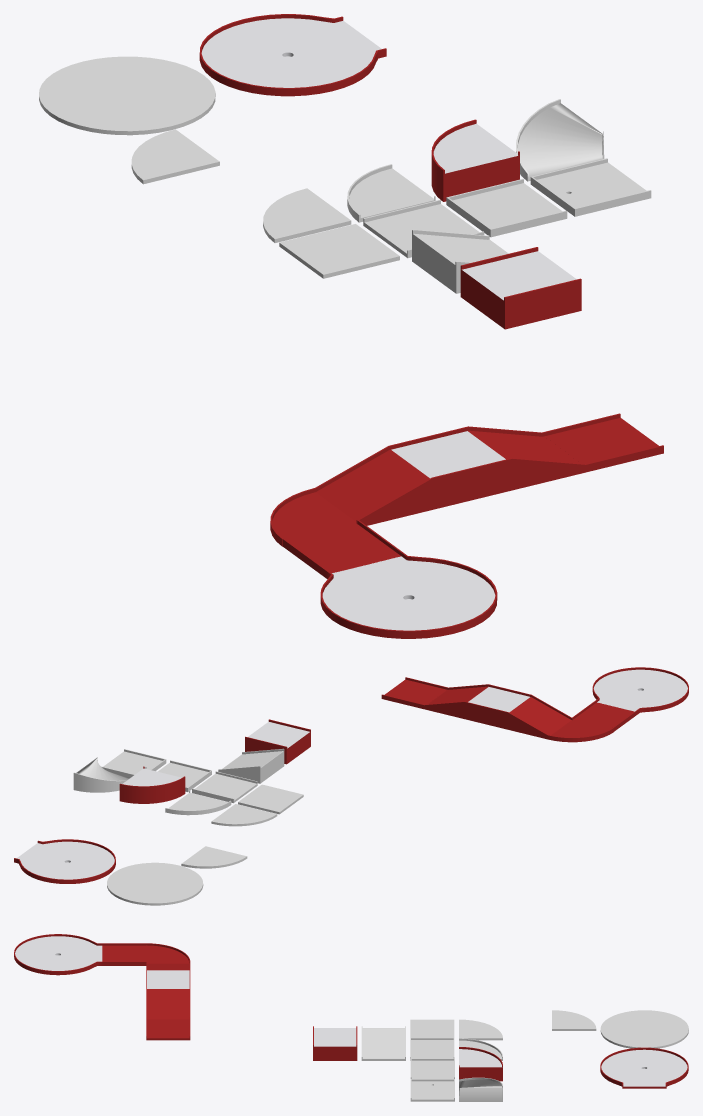
The model's file is MidgetGolf_ConstructionKit.fbx.
3 views of the same model, one above another, from view 1: azimuth 30°, elevation 25°; view 2: azimuth 150°, elevation 25°; view 3: azimuth 270°, elevation 25° (orthographic). The views are drawn at different scales.
Visible parts, largest first — view 1: Cylinder.9, Cylinder.6, Cylinder.1, Cube.5, Cylinder.4, Cylinder.5, Cube, Cube.3, Cube.1, Cube.4, Cylinder.2, Cylinder (+2 smaller); view 2: Cylinder.9, Cylinder.6, Cylinder.1, Cylinder.4, Cube.5, Cube.4, Cube.11, Cylinder.5, Cube.1, Cube, Cylinder.3, Cylinder.2 (+2 smaller); view 3: Cylinder.9, Cylinder.6, Cylinder.1, Cube.5, Cube.4, Cylinder.4, Cylinder.5, Cube, Cube.3, Cube.1, Cube.11, Cylinder.2 (+2 smaller).
Boxes of the visible parts, box(x1,y1,x2,y2) form: Cylinder.9: box(270, 413, 663, 638); Cylinder.6: box(199, 14, 386, 96); Cylinder.1: box(39, 56, 215, 135); Cube.5: box(460, 247, 581, 329); Cylinder.4: box(431, 119, 519, 201); Cylinder.5: box(516, 99, 604, 181); Cube: box(530, 158, 651, 216); Cube.3: box(446, 179, 567, 237); Cube.1: box(279, 224, 399, 278); Cube.4: box(412, 229, 508, 293); Cylinder.2: box(131, 129, 219, 184); Cylinder: box(263, 188, 351, 242); Cylinder.9: box(381, 667, 688, 742); Cylinder.6: box(14, 839, 115, 883); Cylinder.1: box(107, 862, 203, 905); Cylinder.4: box(119, 766, 185, 803); Cube.5: box(245, 719, 310, 764); Cube.4: box(218, 748, 284, 783); Cube.11: box(192, 771, 257, 803); Cylinder.5: box(73, 757, 129, 792); Cube.1: box(238, 784, 303, 814); Cube: box(101, 749, 166, 777); Cylinder.3: box(165, 790, 231, 815); Cylinder.2: box(181, 846, 247, 868); Cylinder.9: box(14, 934, 190, 1040); Cylinder.6: box(600, 1047, 688, 1088); Cylinder.1: box(600, 1010, 688, 1048); Cube.5: box(313, 1026, 357, 1060); Cube.4: box(361, 1026, 405, 1060); Cylinder.4: box(459, 1047, 502, 1081); Cylinder.5: box(459, 1077, 502, 1101); Cube: box(410, 1079, 454, 1101); Cube.3: box(410, 1058, 454, 1078); Cube.1: box(410, 1019, 454, 1039); Cube.11: box(410, 1038, 454, 1060); Cylinder.2: box(552, 1010, 596, 1030).
Size of the model in its own units: 8781 by 395 by 15263.
